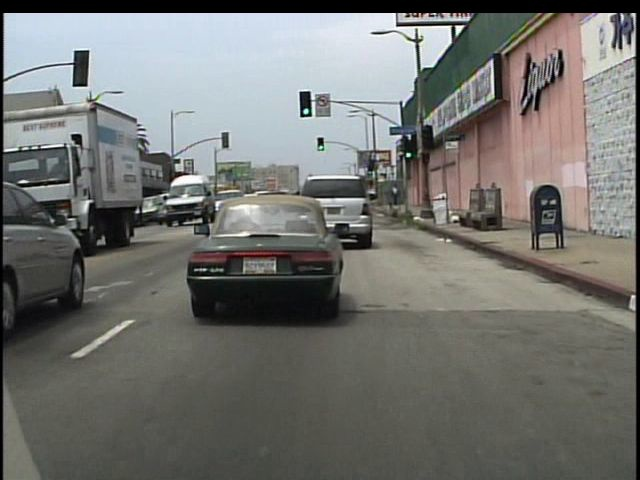person: (392, 183, 402, 206)
